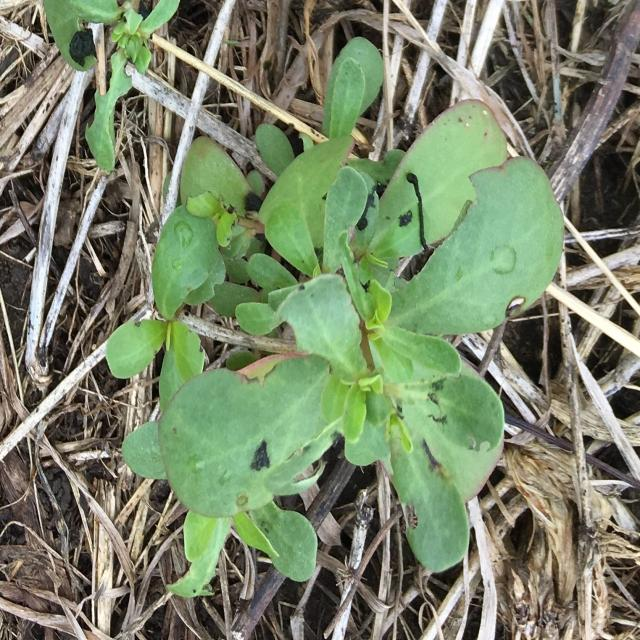Purslane: (106, 37, 564, 598)
